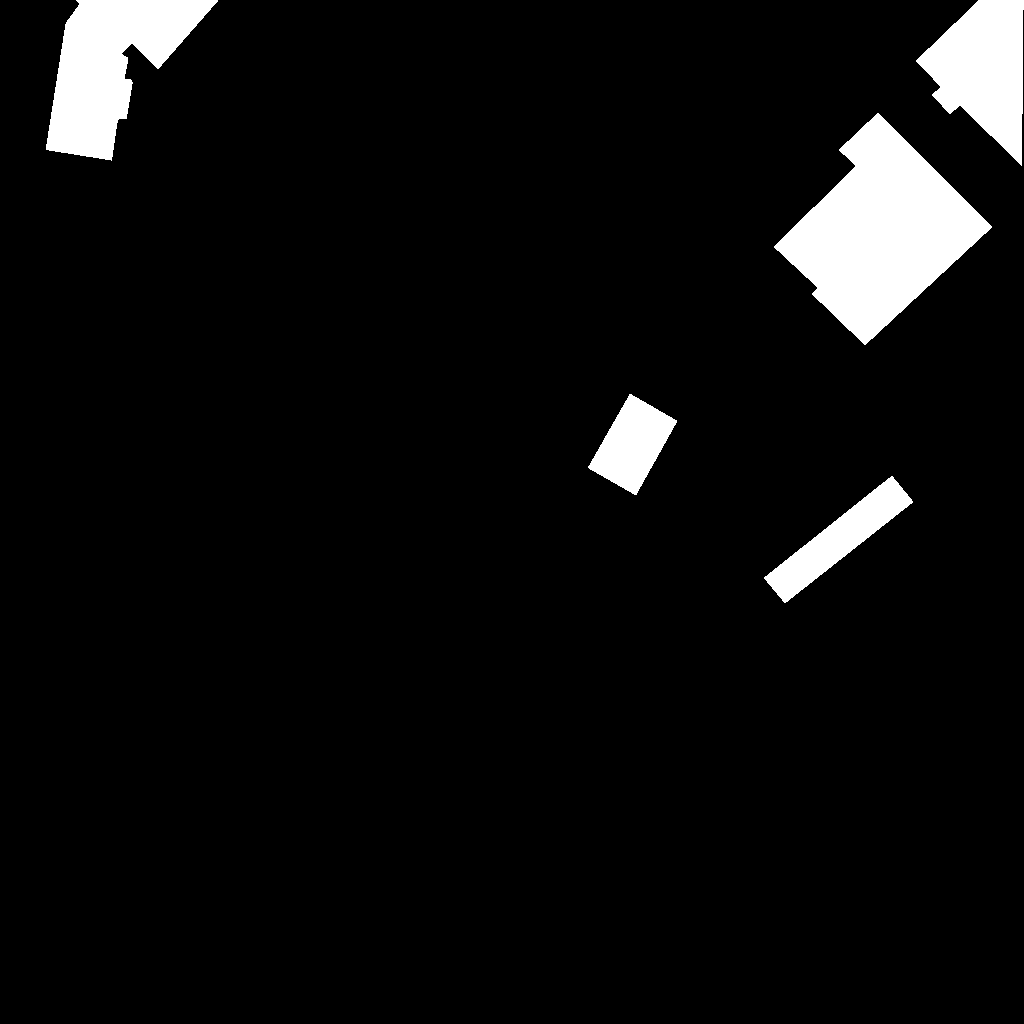building: (774, 113, 993, 346), (46, 0, 220, 161), (764, 476, 914, 604), (916, 0, 1024, 167), (588, 394, 678, 496)
